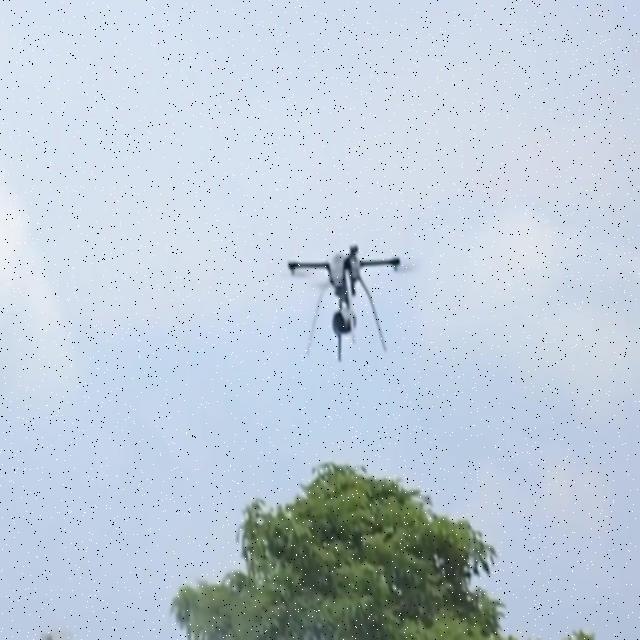UAV: (288, 245, 410, 361)
